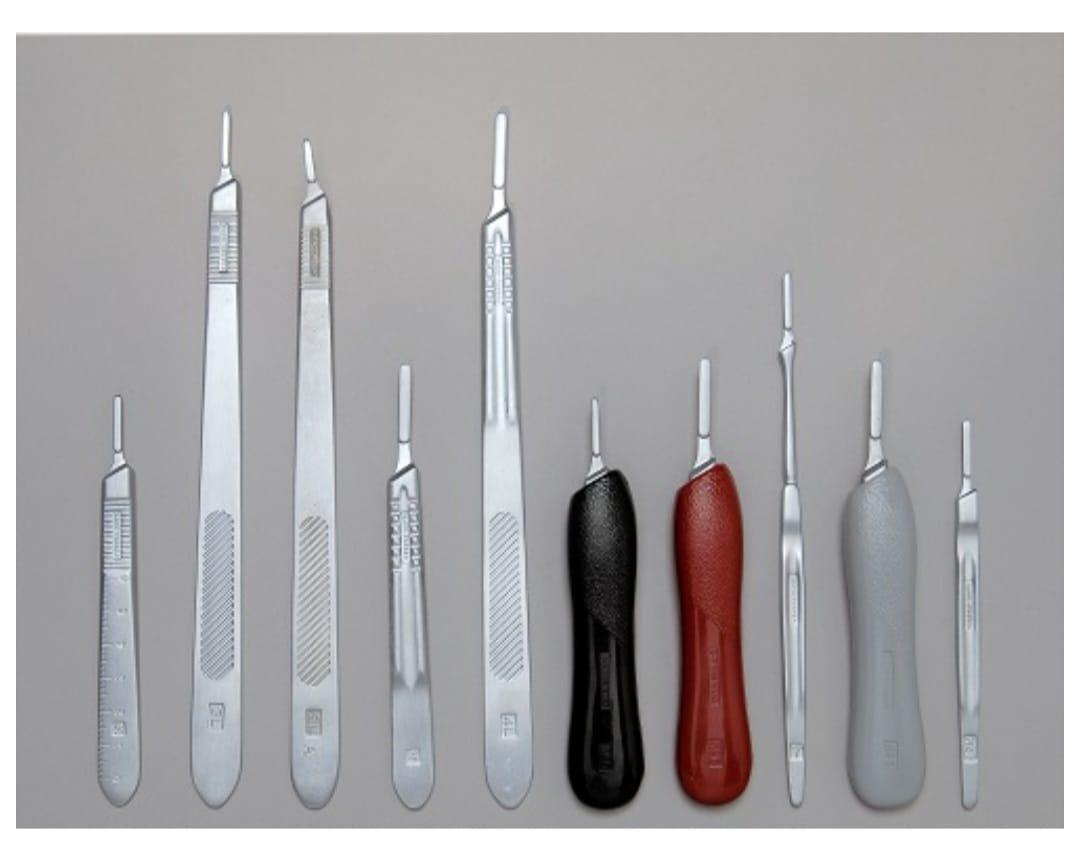Knife Handle: (453, 102, 551, 812), (169, 100, 254, 817), (280, 129, 352, 813), (839, 348, 939, 821), (662, 354, 762, 811), (368, 344, 461, 816), (751, 262, 830, 810), (61, 380, 159, 808), (565, 393, 654, 820), (950, 408, 1000, 816)
